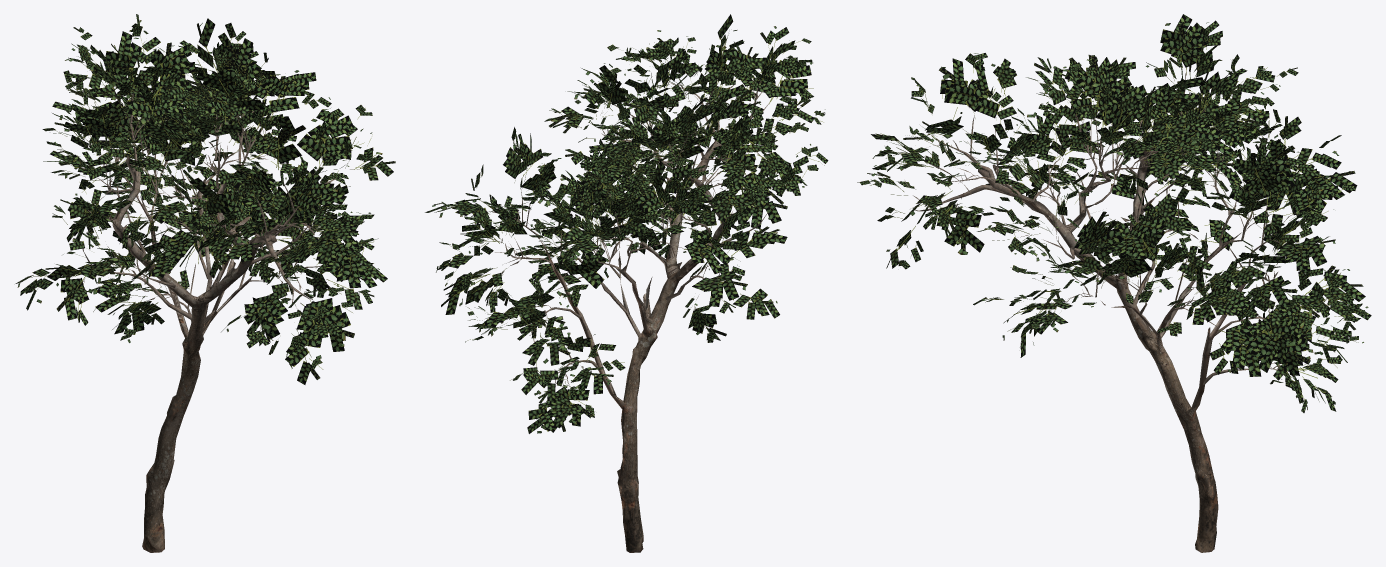
Rendered from mature-tree-lod3.gltf.
3 views of the same model, side by side, from view 1: azimuth 30°, elevation 25°; view 2: azimuth 150°, elevation 25°; view 3: azimuth 270°, elevation 25° (orthographic). The views are drawn at different scales.
Parts seen in each view (by area): view 1: tree_small_02_LOD0; view 2: tree_small_02_LOD0; view 3: tree_small_02_LOD0.
Boxes of the visible parts, left/top/right/bottom form: tree_small_02_LOD0: left=15, top=14, right=395, bottom=552; tree_small_02_LOD0: left=425, top=14, right=828, bottom=552; tree_small_02_LOD0: left=857, top=14, right=1371, bottom=552.
Size of the model in its own units: 2.97 by 4.59 by 4.32.
Materials: 3 (3 with a texture image).
